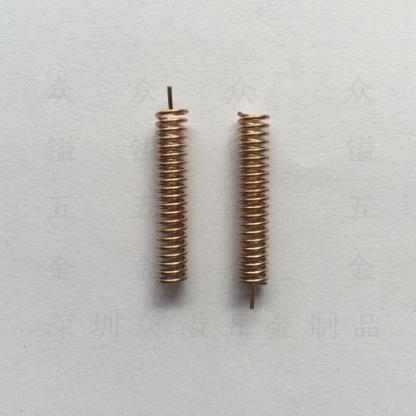FOD: (150, 83, 194, 286), (236, 106, 272, 314)
